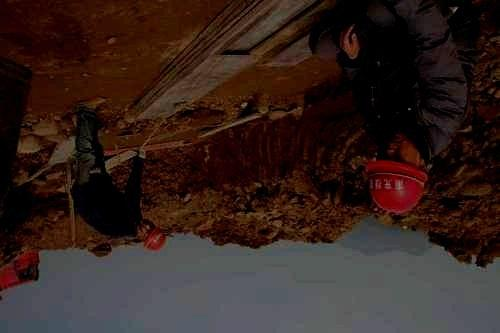helmet: (363, 132, 429, 214), (136, 219, 167, 252)
